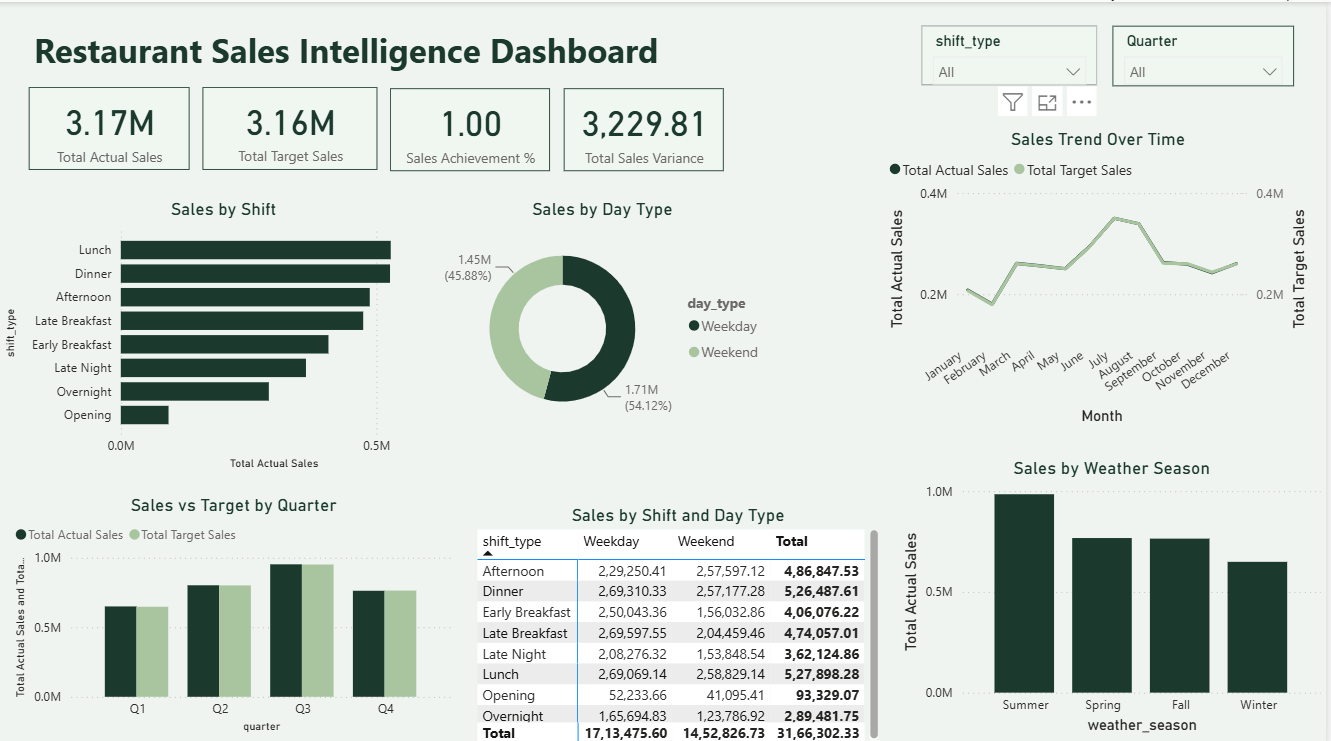

Layout of this report page (visuals, bound fields, positions):
{"tool":"powerbi","page":{"name":"Sales","canvas":[1280,720],"ordinal":0},"visuals":[{"type":"textbox","box":[28.1,19.6,671.3,62.4],"z":0},{"type":"card","fields":{"Values":["shifts_sales_clean.Total Actual Sales"]},"box":[27.7,82,155,80],"z":1000},{"type":"card","fields":{"Values":["shifts_sales_clean.Total Target Sales"]},"box":[195.4,82,168.9,79.6],"z":2000},{"type":"card","fields":{"Values":["shifts_sales_clean.Sales Achievement %"]},"box":[376.4,83.2,154.4,79.6],"z":3000},{"type":"card","fields":{"Values":["shifts_sales_clean.Total Sales Variance"]},"box":[544.1,83.2,154.4,79.6],"z":4000},{"type":"slicer","fields":{"Values":["shifts_sales_clean.quarter"]},"box":[1073.6,23.2,174.9,58.7],"z":5000},{"type":"slicer","fields":{"Values":["shifts_sales_clean.shift_type"]},"box":[889,23.2,170,57.5],"z":6000},{"type":"clusteredBarChart","title":"Sales by Shift","fields":{"Category":["shifts_sales_clean.shift_type"],"Y":["shifts_sales_clean.Total Actual Sales"]},"box":[0,189.4,431.9,266.6],"z":7000},{"type":"lineChart","title":"Sales Trend Over Time","fields":{"Y":["shifts_sales_clean.Total Actual Sales"],"Y2":["shifts_sales_clean.Total Target Sales"],"Category":["DateTable.Month"]},"box":[853,121.9,413.8,290.8],"z":8000},{"type":"donutChart","title":"Sales by Day Type","fields":{"Category":["shifts_sales_clean.day_type"],"Y":["shifts_sales_clean.Total Actual Sales"]},"box":[417.4,189.4,328.2,232.8],"z":9000},{"type":"columnChart","title":"Sales by Weather Season","fields":{"Category":["shifts_sales_clean.weather_season"],"Y":["shifts_sales_clean.Total Actual Sales"]},"box":[866.2,439.1,413.8,271.4],"z":10000},{"type":"clusteredColumnChart","title":"Sales vs Target by Quarter","fields":{"Category":["shifts_sales_clean.quarter"],"Y":["shifts_sales_clean.Total Actual Sales","shifts_sales_clean.Total Target Sales"]},"box":[9.7,475.3,431.9,235.3],"z":11000},{"type":"pivotTable","title":"Sales by Shift and Day Type","fields":{"Rows":["shifts_sales_clean.shift_type"],"Columns":["shifts_sales_clean.day_type"],"Values":["shifts_sales_clean.Total Actual Sales"]},"box":[456,485,396.9,235.3],"z":12000}]}

Visuals, with their boxes in screenshot pixels (x1, y1, x2, y2), scaled from the page's 1280x720 canvas onto the 1331x741 screenshot:
textbox: box=[29, 20, 727, 84]
card - shifts_sales_clean.Total Actual Sales: box=[29, 84, 190, 167]
card - shifts_sales_clean.Total Target Sales: box=[203, 84, 379, 166]
card - shifts_sales_clean.Sales Achievement %: box=[391, 86, 552, 168]
card - shifts_sales_clean.Total Sales Variance: box=[566, 86, 726, 168]
slicer - shifts_sales_clean.quarter: box=[1116, 24, 1298, 84]
slicer - shifts_sales_clean.shift_type: box=[924, 24, 1101, 83]
"Sales by Shift" clusteredBarChart: box=[0, 195, 449, 469]
"Sales Trend Over Time" lineChart: box=[887, 125, 1317, 425]
"Sales by Day Type" donutChart: box=[434, 195, 775, 435]
"Sales by Weather Season" columnChart: box=[901, 452, 1330, 731]
"Sales vs Target by Quarter" clusteredColumnChart: box=[10, 489, 459, 731]
"Sales by Shift and Day Type" pivotTable: box=[474, 499, 887, 740]
